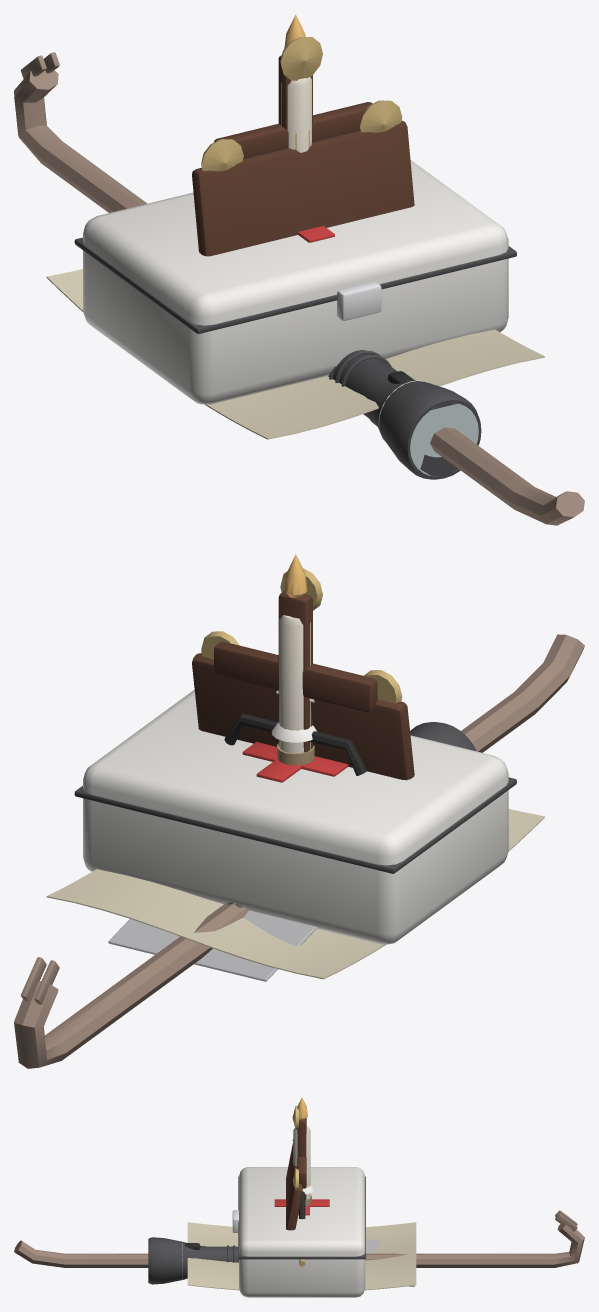
The model's file is items.glb.
3 views of the same model, one above another, from view 1: azimuth 30°, elevation 25°; view 2: azimuth 150°, elevation 25°; view 3: azimuth 270°, elevation 25° (orthographic). The views are drawn at different scales.
Parts seen in each view (by area): view 1: mk_box, MusicBox_Lid, note, cb_bar, fl_body, cr_wood, mk_seam, fl_lens, cs_wax, cr_tip, mk_latch, cr_tip.003 (+1 smaller); view 2: mk_box, cb_bar, note, MusicBox_Lid, cr_wood, mb_mirror, cs_wax, mk_seam, mk_cross, mk_handle, fl_body, cr_tip.003 (+1 smaller); view 3: mk_box, note, cb_bar, fl_body, MusicBox_Lid, mk_seam, cr_wood, cs_wax, mk_cross.
Part boxes in pixels (<box>): mk_box: <box>83,159,508,404</box>; MusicBox_Lid: <box>192,120,414,256</box>; note: <box>46,269,544,439</box>; cb_bar: <box>14,70,584,525</box>; fl_body: <box>328,350,481,479</box>; cr_wood: <box>214,55,372,159</box>; mk_seam: <box>74,237,516,333</box>; fl_lens: <box>410,403,478,476</box>; cs_wax: <box>281,77,311,152</box>; cr_tip: <box>280,37,322,80</box>; mk_latch: <box>337,281,381,320</box>; cr_tip.003: <box>201,139,243,171</box>; mk_box: <box>83,689,508,944</box>; cb_bar: <box>14,634,584,1068</box>; note: <box>46,808,544,979</box>; MusicBox_Lid: <box>192,653,414,780</box>; cr_wood: <box>214,591,377,752</box>; mb_mirror: <box>108,910,316,981</box>; cs_wax: <box>279,615,310,753</box>; mk_seam: <box>74,777,516,873</box>; mk_cross: <box>242,742,348,782</box>; mk_handle: <box>224,714,366,775</box>; fl_body: <box>410,722,476,751</box>; cr_tip.003: <box>364,670,402,703</box>; mk_box: <box>239,1167,365,1297</box>; note: <box>187,1222,416,1290</box>; cb_bar: <box>14,1224,584,1267</box>; fl_body: <box>148,1237,238,1284</box>; MusicBox_Lid: <box>286,1143,302,1230</box>; mk_seam: <box>238,1176,365,1259</box>; cr_wood: <box>297,1118,306,1199</box>; cs_wax: <box>293,1126,310,1199</box>; mk_cross: <box>274,1199,329,1215</box>.
Bounding box in the file's own units: 0.2479 × 0.259 × 0.7239.
